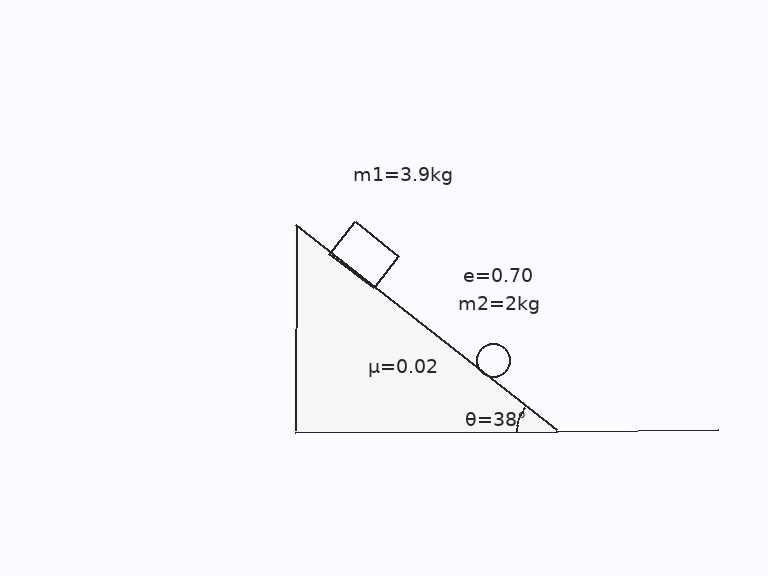ball: (474, 341, 512, 379)
block: (328, 219, 401, 290)
ramp: (293, 224, 559, 433)
